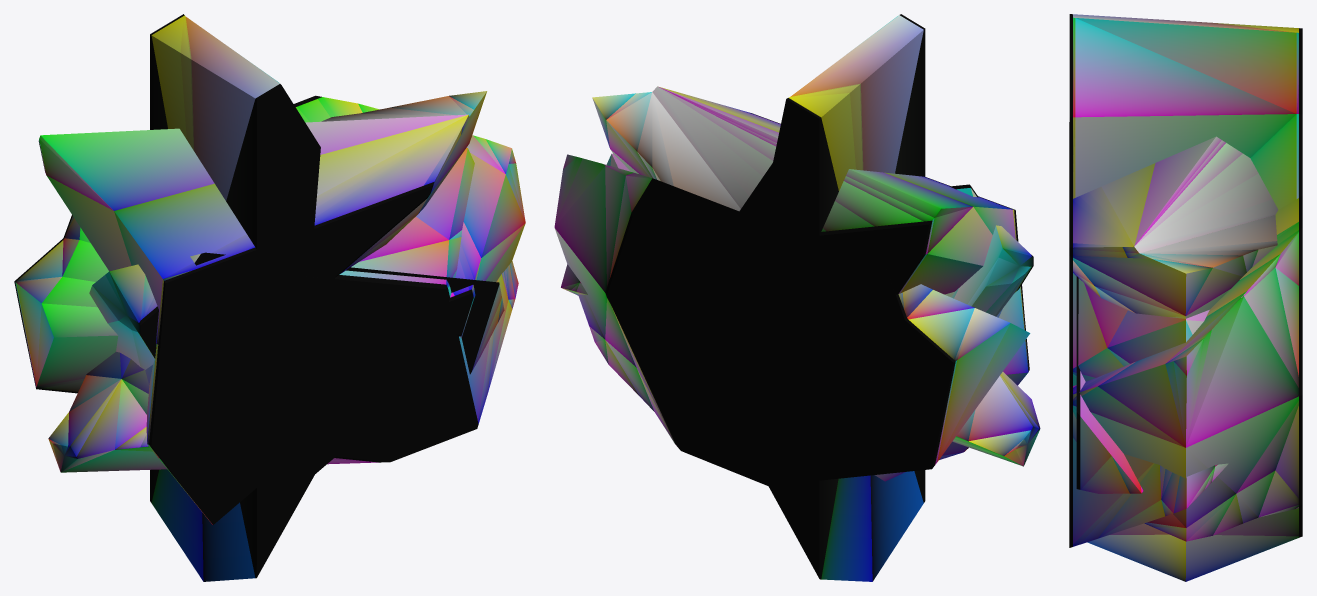
Rendered from Heart_0.fbx.
The picture shows the model from 3 angles, left to right: view 1: azimuth 30°, elevation 25°; view 2: azimuth 150°, elevation 25°; view 3: azimuth 270°, elevation 25°; orthographic projection. The views are drawn at different scales.
Visible parts, largest first — view 1: Heart; view 2: Heart; view 3: Heart.
Boxes of the visible parts, bbox=[...] form: Heart: bbox=[14, 14, 525, 581]; Heart: bbox=[554, 14, 1040, 581]; Heart: bbox=[1069, 14, 1302, 581].
Size of the model in its own units: 138 by 147 by 53.91.
